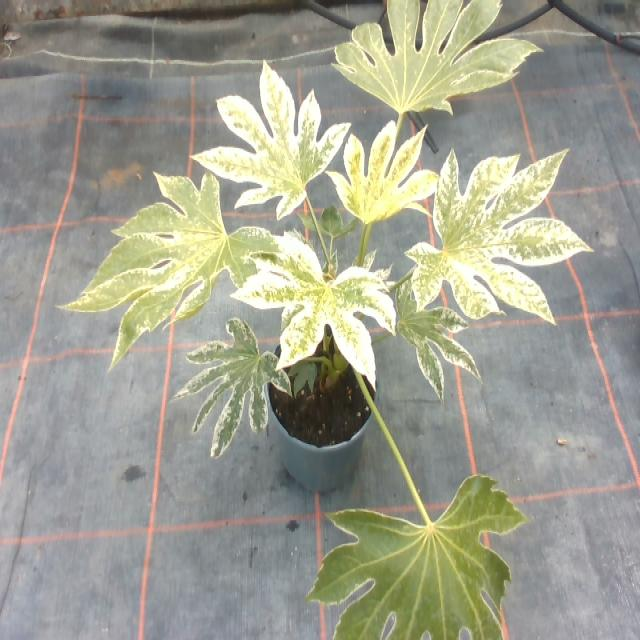Fatsia-japonica: (301, 465, 561, 640), (80, 157, 268, 336), (402, 152, 587, 316), (185, 58, 342, 228), (328, 0, 532, 118), (250, 227, 388, 379), (168, 308, 304, 454), (326, 135, 430, 248), (389, 279, 477, 388), (300, 202, 370, 246)
